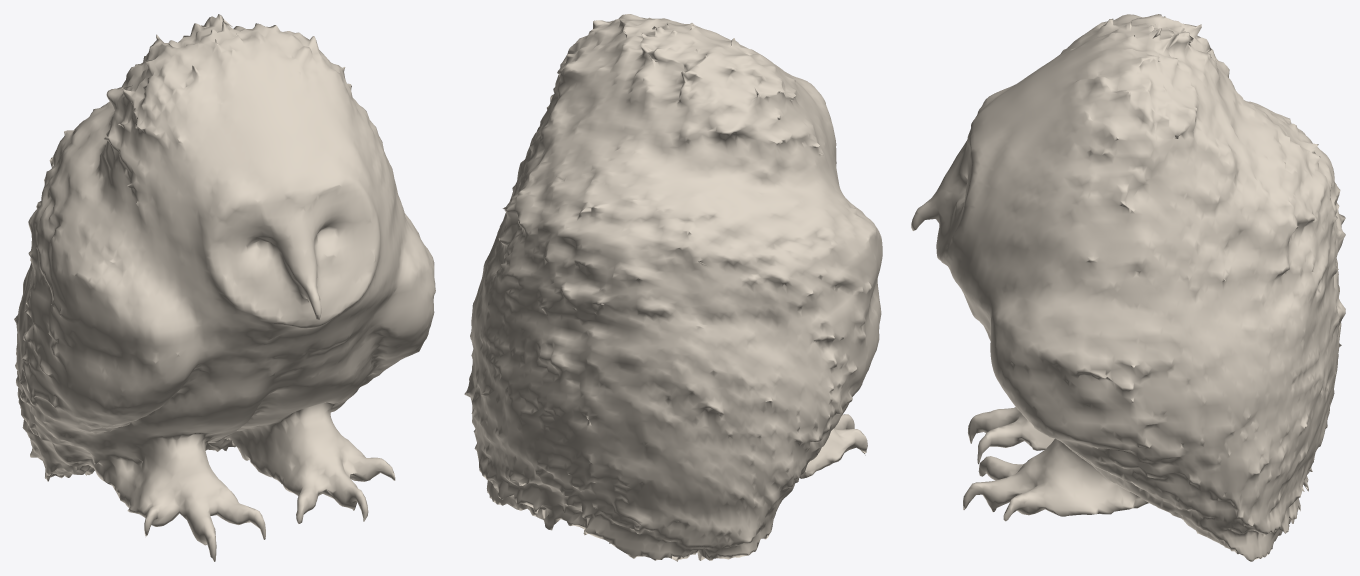
File: native-posture-diagnostic-NO_RELEASE.glb
3 renders of one model, left to right at view 1: azimuth 30°, elevation 25°; view 2: azimuth 150°, elevation 25°; view 3: azimuth 270°, elevation 25°, orthographic. The views are drawn at different scales.
Parts seen in each view (by area): view 1: run406_native_posture_diagnostic_NO_RELEASE; view 2: run406_native_posture_diagnostic_NO_RELEASE; view 3: run406_native_posture_diagnostic_NO_RELEASE.
Boxes of the visible parts, x1=… form: run406_native_posture_diagnostic_NO_RELEASE: x1=14, y1=14, x2=435, y2=561; run406_native_posture_diagnostic_NO_RELEASE: x1=464, y1=14, x2=882, y2=561; run406_native_posture_diagnostic_NO_RELEASE: x1=911, y1=14, x2=1345, y2=561.
Bounding box in the file's own units: 1.5 × 1.88 × 1.54.
